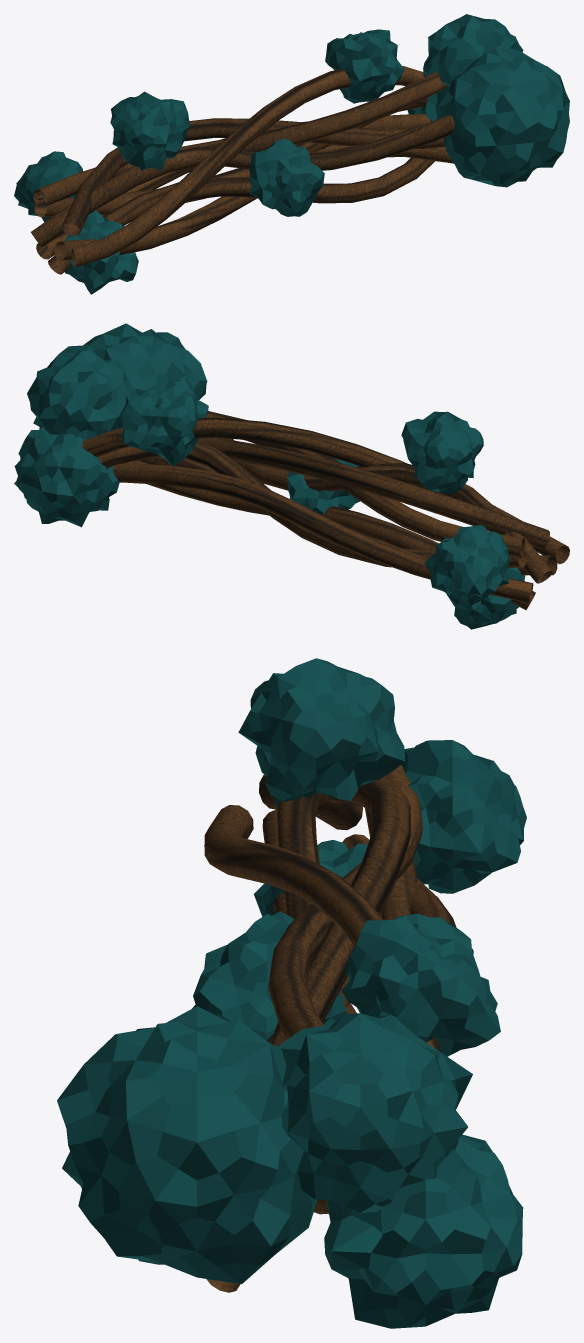
File: Buildings_WoodConnector.fbx
3 views of the same model, one above another, from view 1: azimuth 30°, elevation 25°; view 2: azimuth 150°, elevation 25°; view 3: azimuth 270°, elevation 25° (orthographic). The views are drawn at different scales.
Parts seen in each view (by area): view 1: WoodConnector; view 2: WoodConnector; view 3: WoodConnector.
Boxes of the visible parts, x1=… form: WoodConnector: x1=14, y1=14, x2=569, y2=294; WoodConnector: x1=14, y1=323, x2=569, y2=629; WoodConnector: x1=57, y1=658, x2=526, y2=1328.
Size of the model in its own units: 233 by 84.76 by 95.78.
